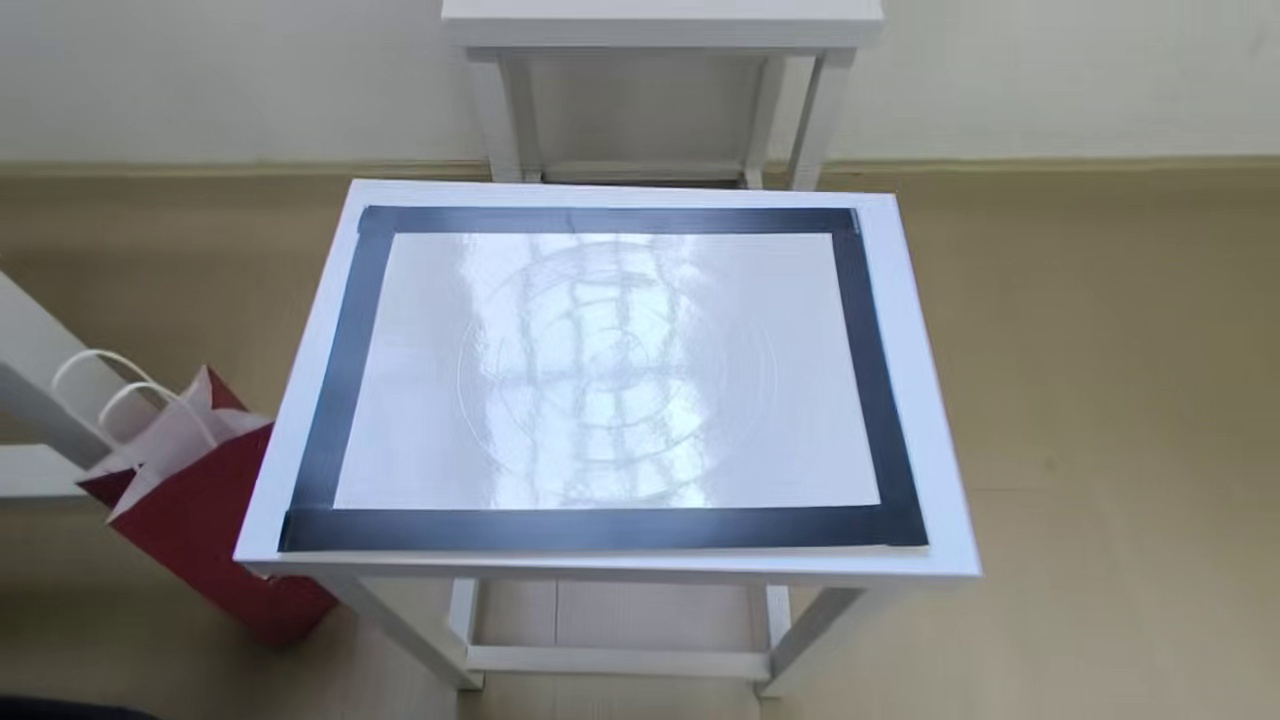board: (283, 206, 927, 557)
